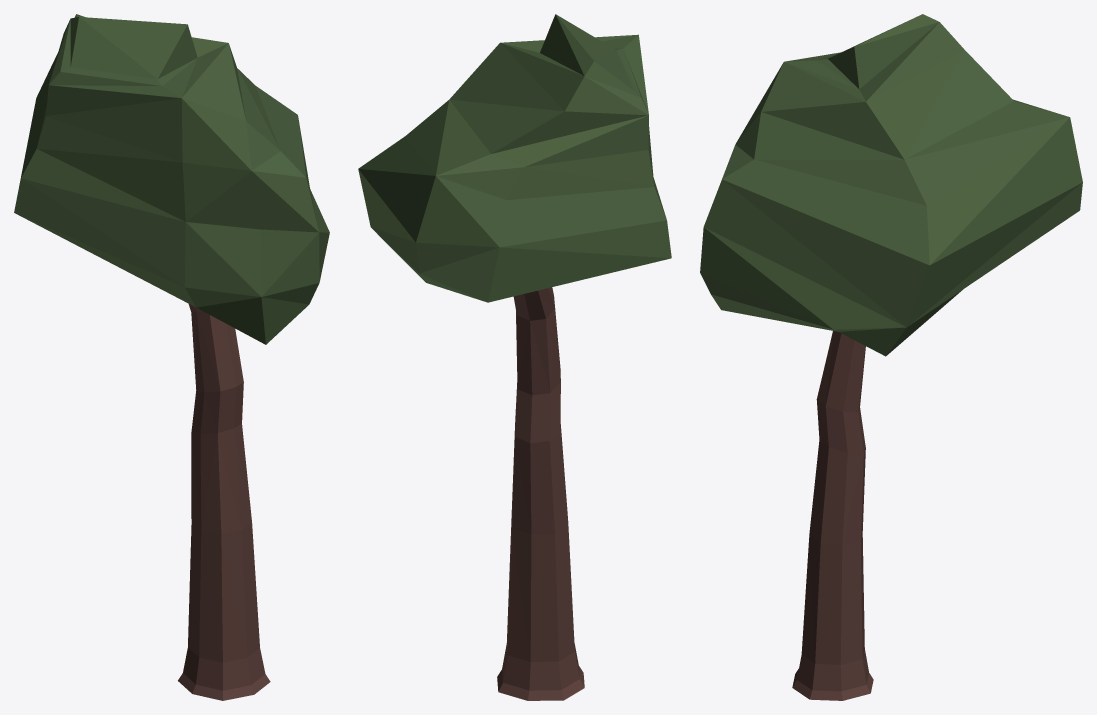
File: tree_orange.s2.glb
3 views of the same model, side by side, from view 1: azimuth 30°, elevation 25°; view 2: azimuth 150°, elevation 25°; view 3: azimuth 270°, elevation 25° (orthographic). The views are drawn at different scales.
Bounding box in the file's own units: 0.1587 × 0.3399 × 0.1887.
